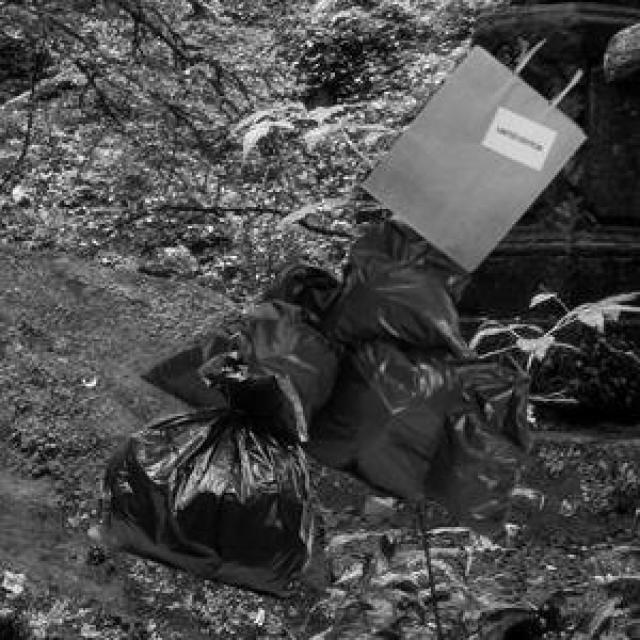miscellaneous trash: (137, 211, 527, 542), (85, 329, 307, 597)
paper: (356, 43, 582, 269)
